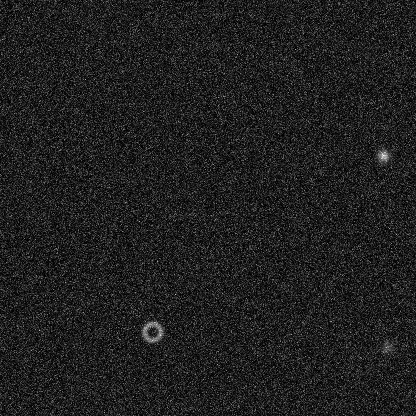Ring: (140, 319, 164, 343)
Spot: (379, 339, 395, 355), (375, 147, 391, 163)
